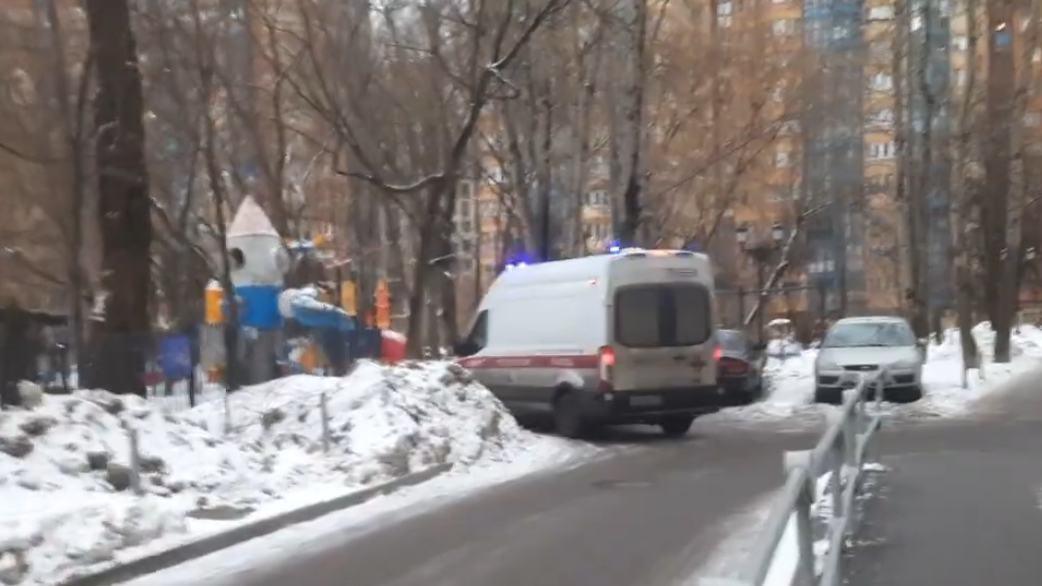ambulance: (453, 244, 716, 439)
non emergency car: (823, 314, 922, 404)
